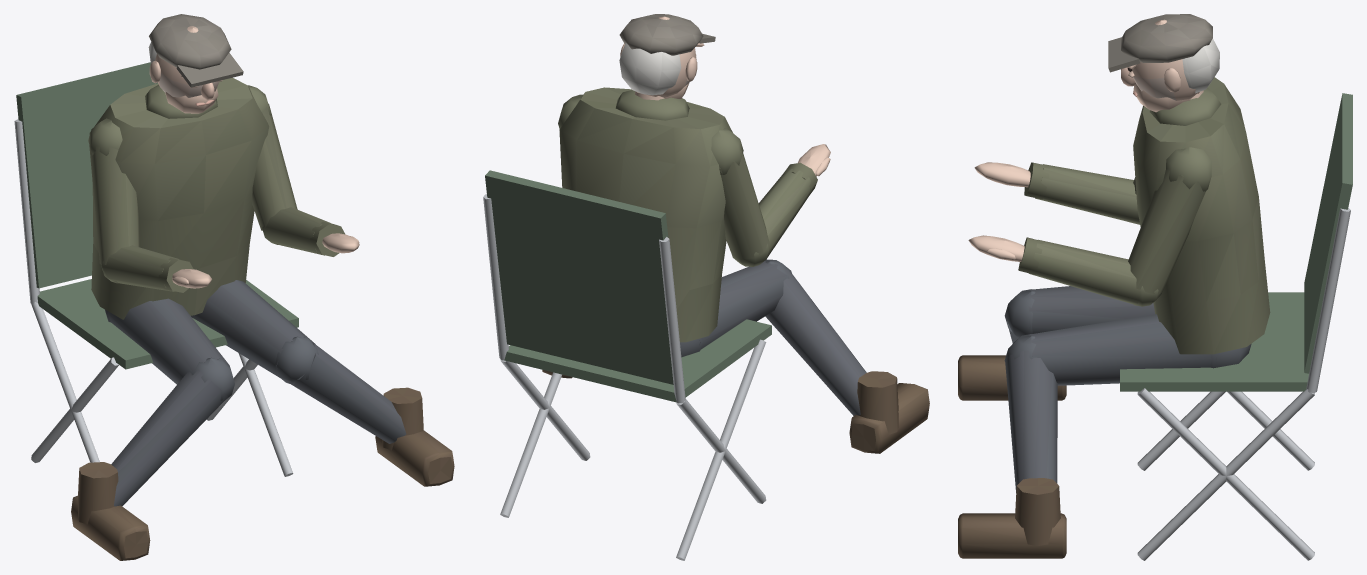
File: ellis_sitting_a.glb
3 renders of one model, left to right at view 1: azimuth 30°, elevation 25°; view 2: azimuth 150°, elevation 25°; view 3: azimuth 270°, elevation 25°, orthographic. The views are drawn at different scales.
Parts seen in each view (by area): view 1: body; view 2: body; view 3: body.
Part boxes in pixels (x1,y1,x2,y2): body: (14, 14, 454, 560); body: (483, 14, 929, 560); body: (958, 14, 1352, 560).
Bounding box in the file's own units: 0.9902 × 1.28 × 0.927.
